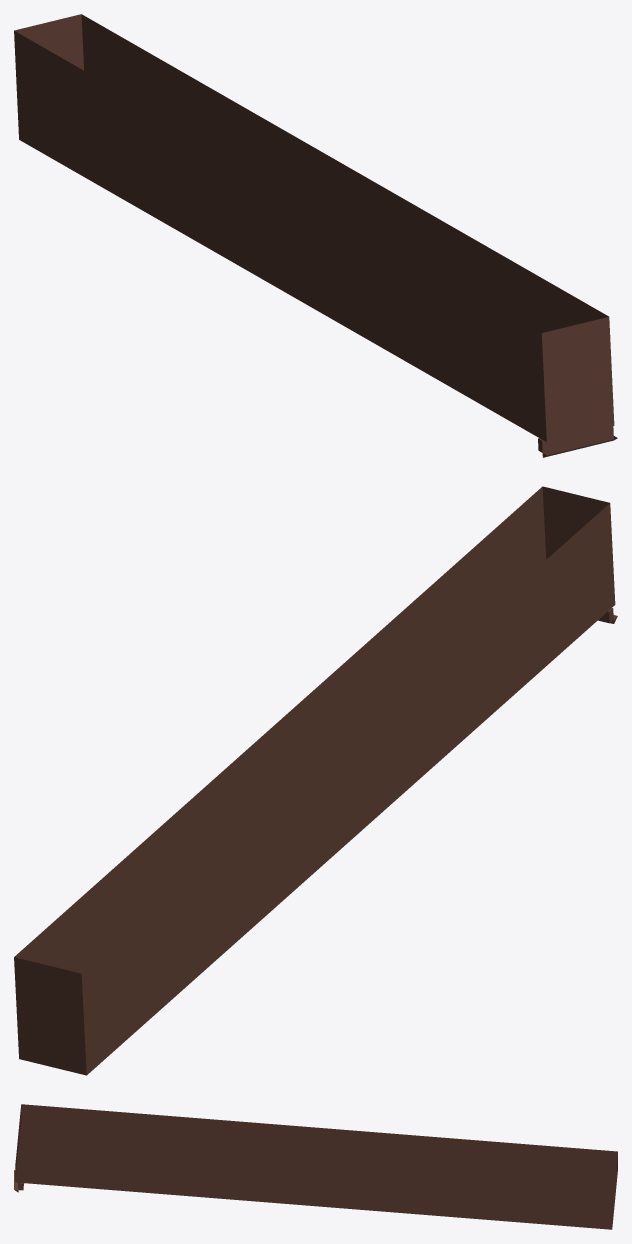
File: original-17.obj
3 views of the same model, one above another, from view 1: azimuth 30°, elevation 25°; view 2: azimuth 150°, elevation 25°; view 3: azimuth 270°, elevation 25° (orthographic). The views are drawn at different scales.
Parts seen in each view (by area): view 1: #ID135; view 2: #ID135; view 3: #ID135.
Boxes of the visible parts, x1,y1,x2,y2 form: #ID135: (14,14,617,457); #ID135: (14,486,617,1075); #ID135: (14,1104,617,1229).
Bounding box in the file's own units: 0.1128 × 0.2864 × 1.47.
